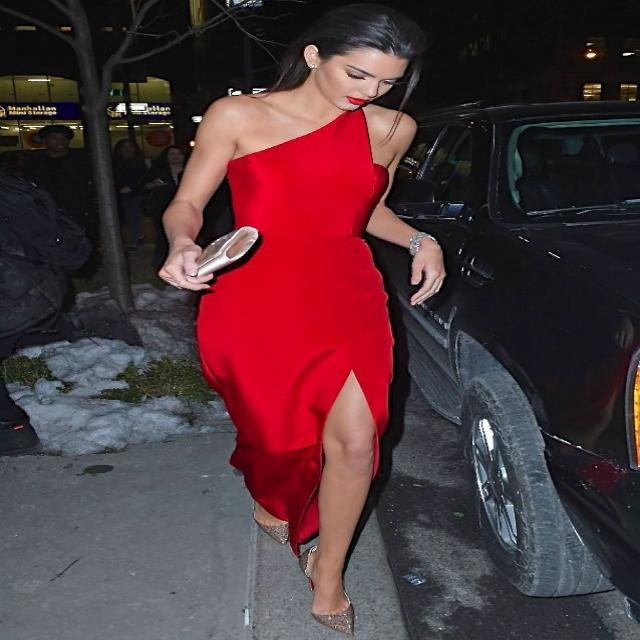female-dress: (177, 104, 415, 536)
